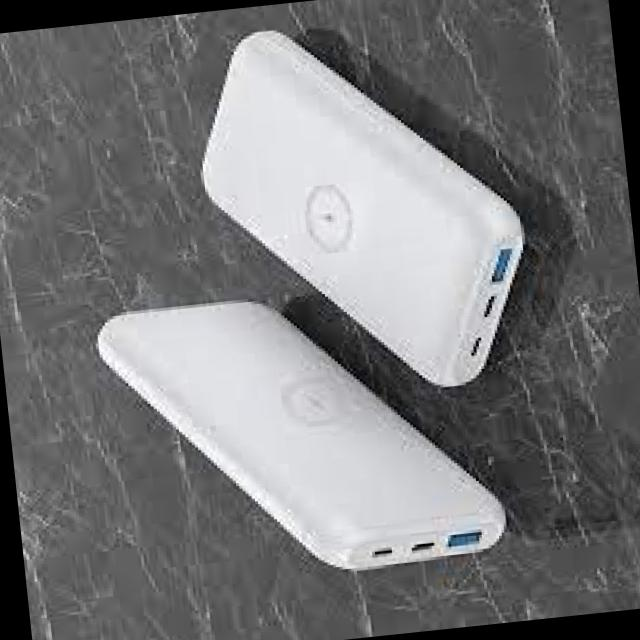portable-charger: (175, 0, 547, 412), (85, 260, 520, 598)
